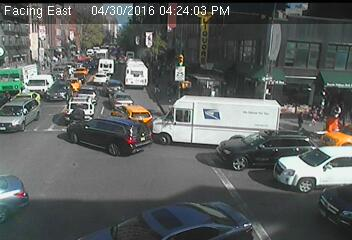neg: (61, 121, 105, 179), (148, 154, 190, 211), (18, 112, 47, 151), (7, 2, 35, 40), (277, 154, 298, 183), (62, 5, 77, 25), (8, 81, 18, 94)
